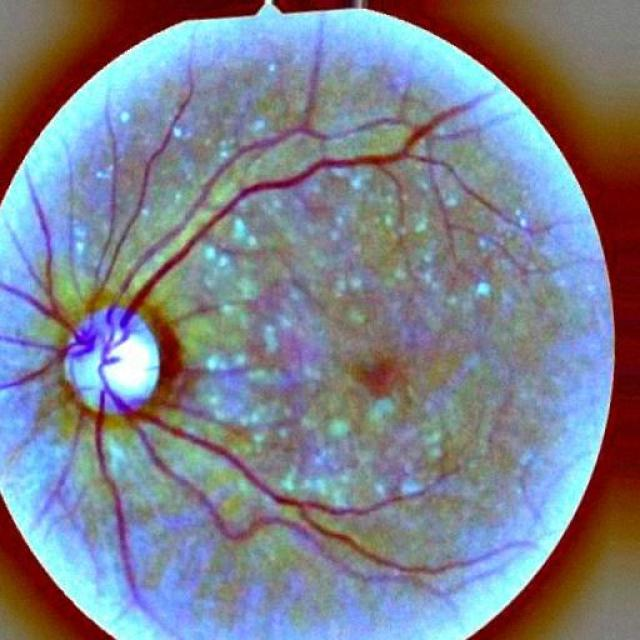Nerves: (0, 82, 402, 618), (356, 359, 396, 395)
Optic Disk: (64, 305, 157, 418)
